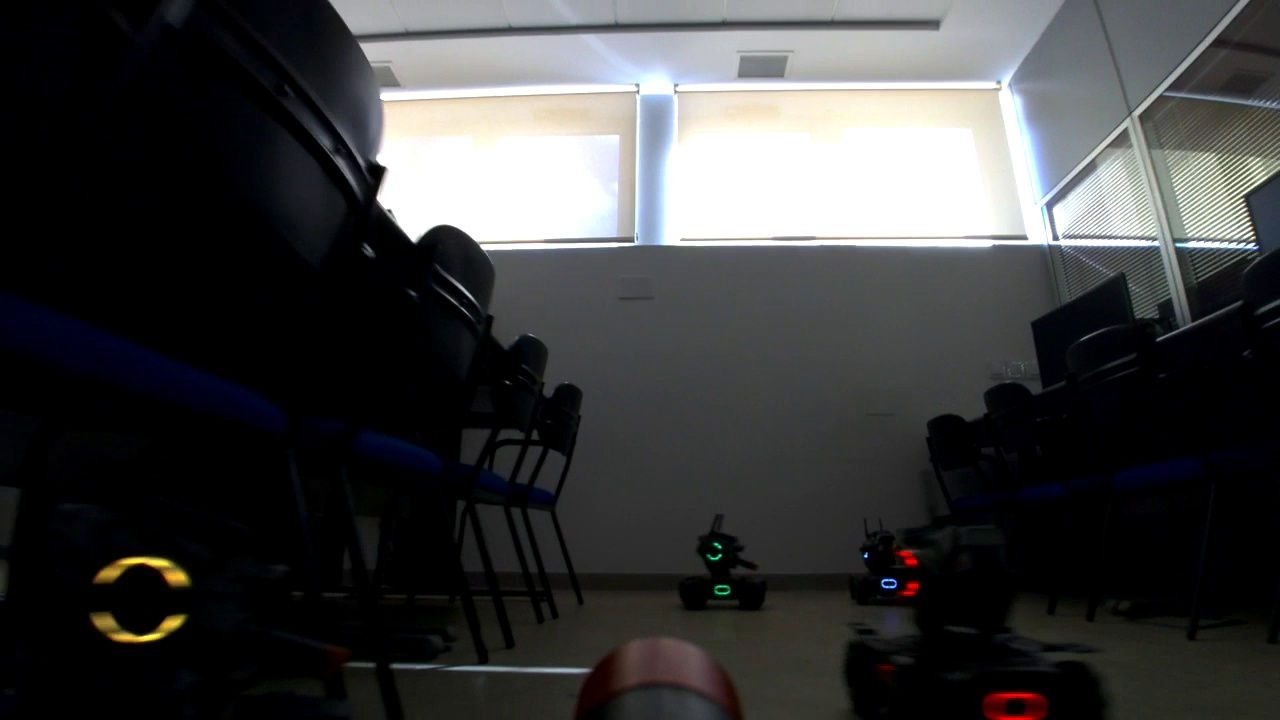robot: (2, 454, 269, 720), (837, 513, 1115, 720), (850, 517, 943, 606), (678, 513, 764, 609)
